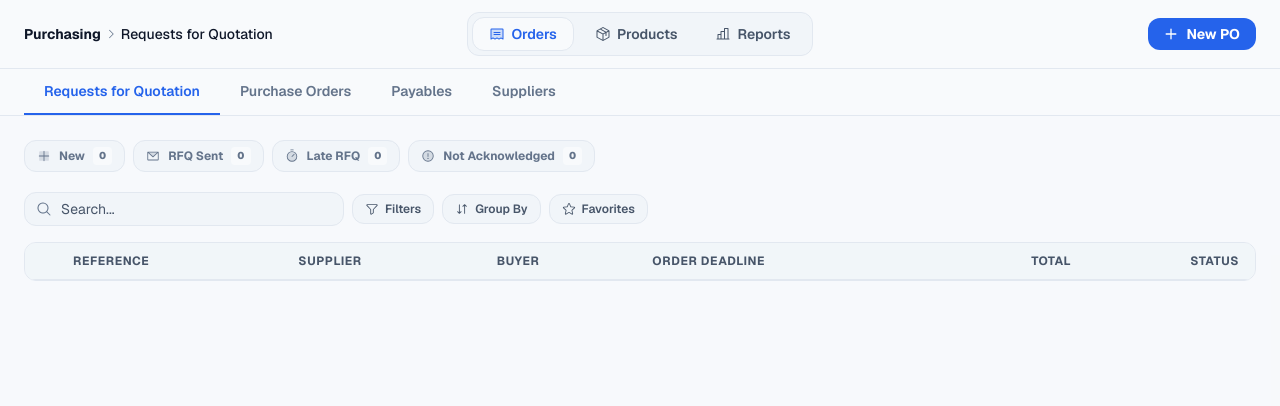
it: Purchasing product search › matches OEM numbers
Click the button "Products" at (636, 34), box [578,17,694,51]
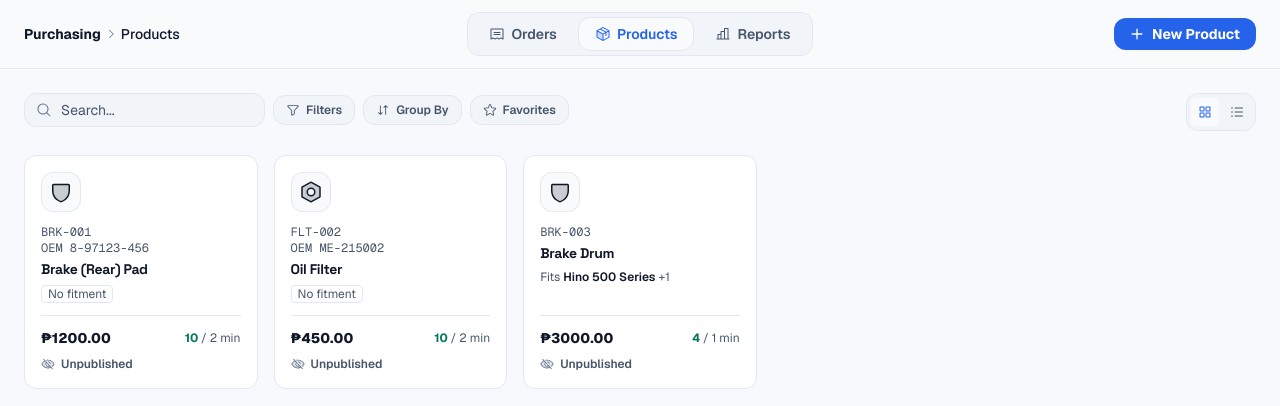
Type "me-215" into the field with placeholder "Search..." at (144, 110), box [24,93,265,127]
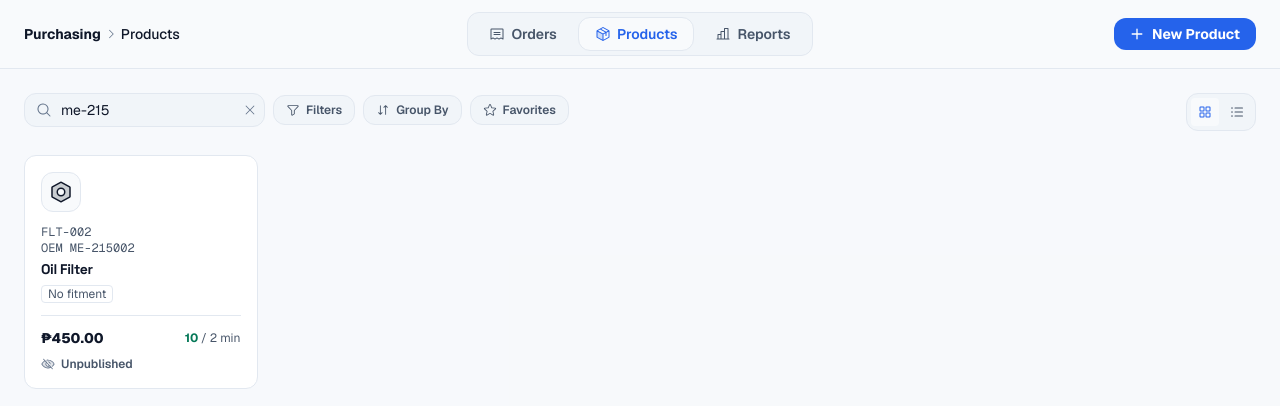
Result: the heading "Oil Filter" is shown at [41,260,93,278]
Result: the button "Brake (Rear) Pad" is gone
